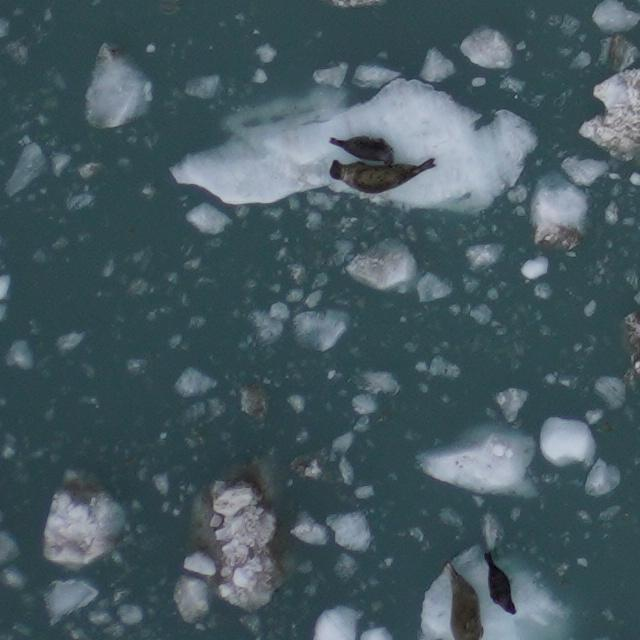seal: (325, 155, 440, 197), (441, 556, 486, 640), (479, 547, 519, 618), (327, 134, 399, 166)
